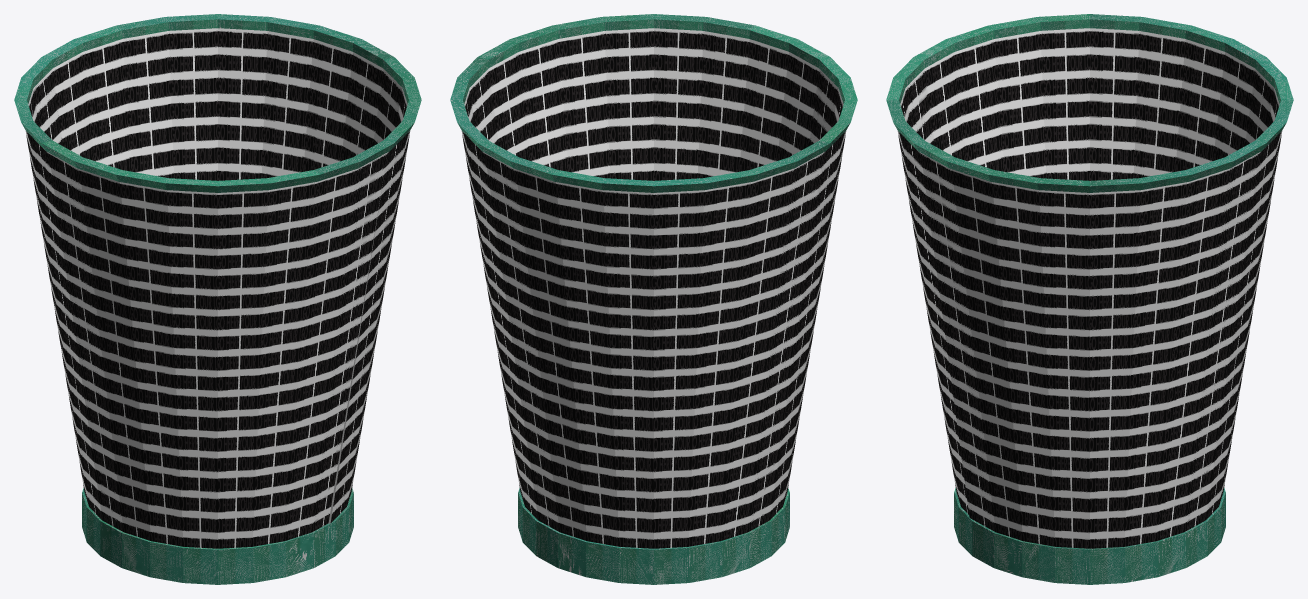
3 views of the same model, side by side, from view 1: azimuth 30°, elevation 25°; view 2: azimuth 150°, elevation 25°; view 3: azimuth 270°, elevation 25° (orthographic).
Visible parts, largest first — view 1: mesh2_mesh2-geometry, mesh1_mesh1-geometry; view 2: mesh2_mesh2-geometry, mesh1_mesh1-geometry; view 3: mesh2_mesh2-geometry, mesh1_mesh1-geometry.
Boxes of the visible parts, left/top/right/bottom form: mesh2_mesh2-geometry: left=14, top=14, right=421, bottom=548; mesh1_mesh1-geometry: left=82, top=488, right=353, bottom=584; mesh2_mesh2-geometry: left=450, top=14, right=857, bottom=548; mesh1_mesh1-geometry: left=518, top=488, right=789, bottom=584; mesh2_mesh2-geometry: left=886, top=14, right=1293, bottom=548; mesh1_mesh1-geometry: left=954, top=488, right=1225, bottom=584.
Bounding box in the file's own units: 0.5473 × 0.6333 × 0.5473.
